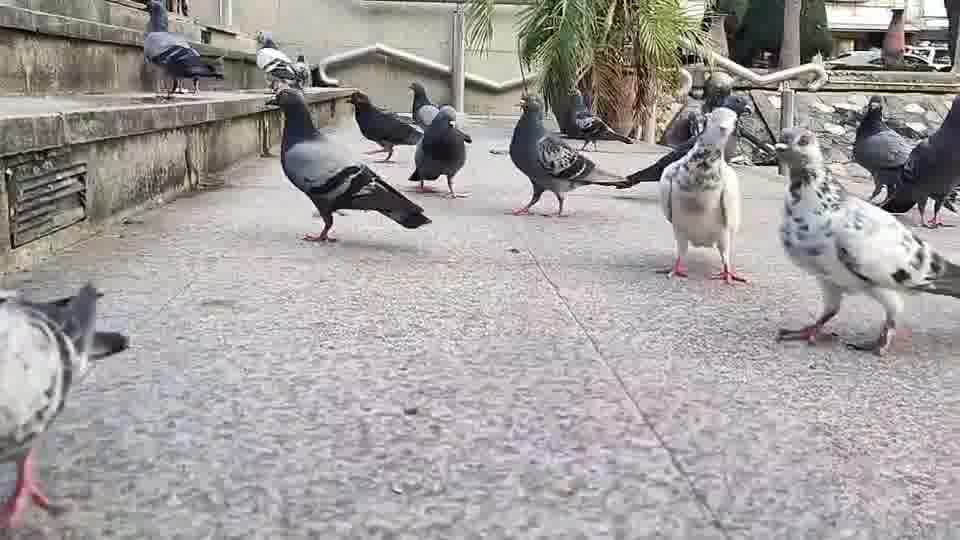Pigeon: (772, 125, 958, 356), (0, 279, 130, 530), (263, 85, 431, 242), (655, 106, 748, 284), (507, 92, 631, 217), (876, 94, 959, 228), (850, 94, 917, 203), (407, 103, 472, 199), (142, 30, 224, 98), (346, 90, 424, 161), (553, 90, 633, 152), (254, 31, 305, 92), (406, 80, 457, 129)
